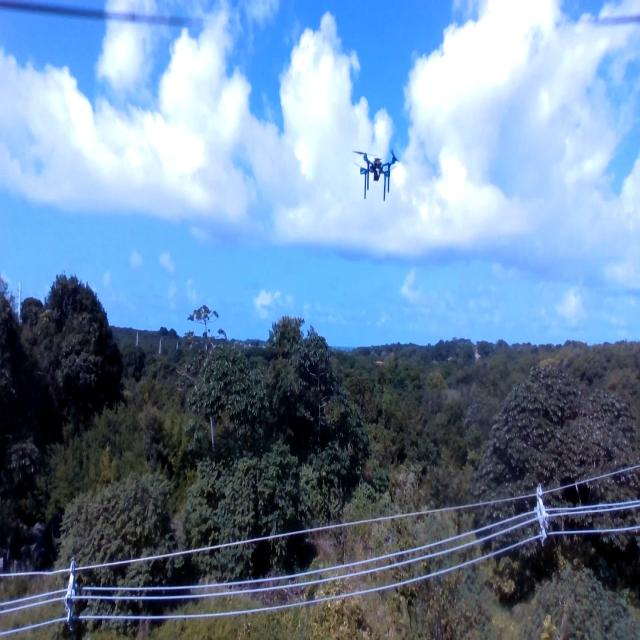-uav-: (347, 140, 405, 204)
